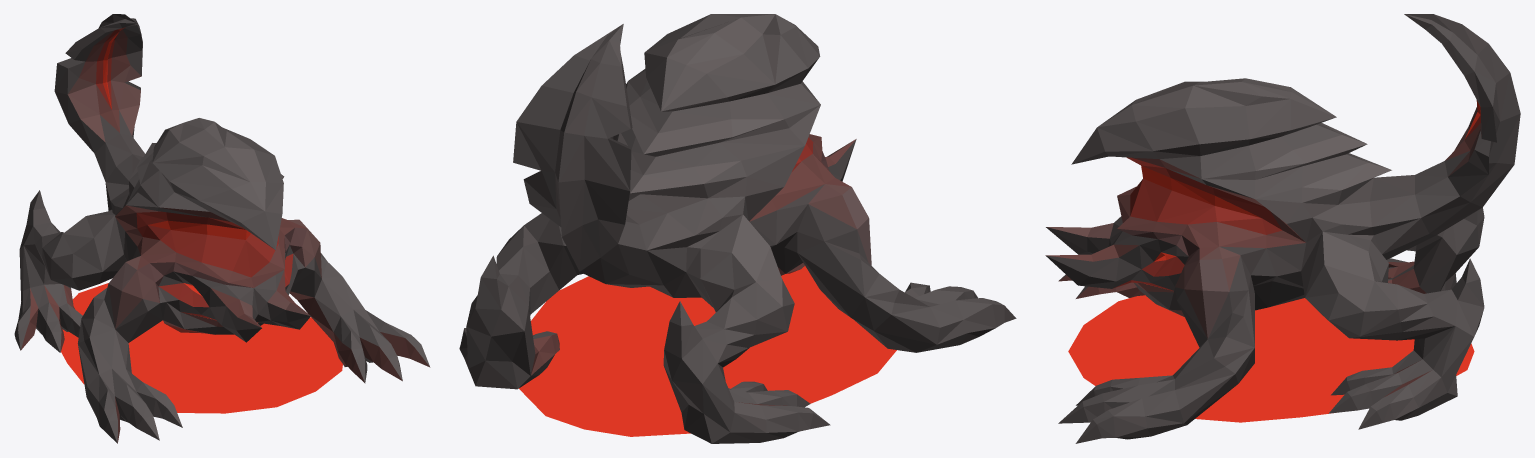
The model's file is mager.glb.
The picture shows the model from 3 angles, left to right: view 1: azimuth 30°, elevation 25°; view 2: azimuth 150°, elevation 25°; view 3: azimuth 270°, elevation 25°; orthographic projection. The views are drawn at different scales.
Bounding box in the file's own units: 427 × 365 × 463.
Materials: 2 (2 with a texture image).
